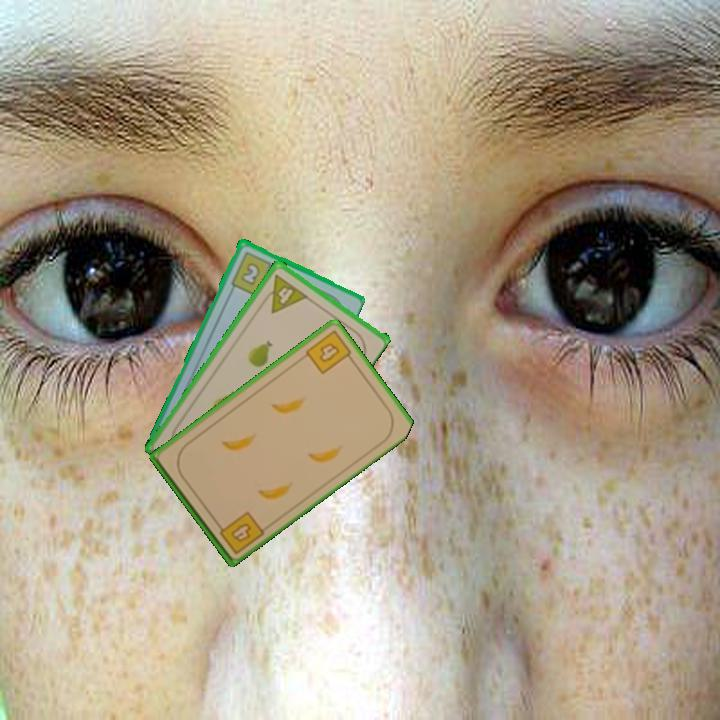2b: (227, 248, 279, 298)
4b: (302, 327, 357, 377), (212, 508, 266, 557)
4p: (257, 270, 310, 316)
